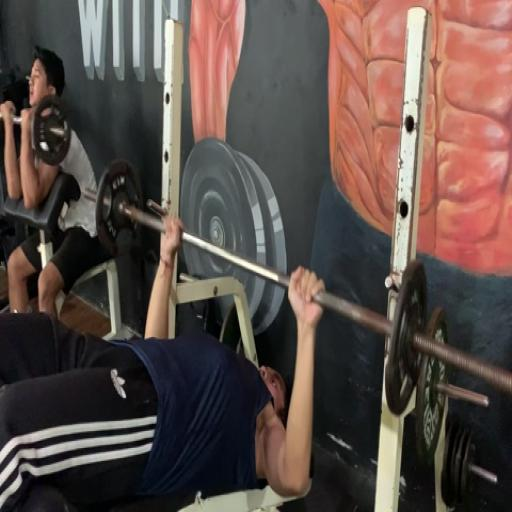exercise: (0, 211, 327, 510), (0, 44, 113, 323)
